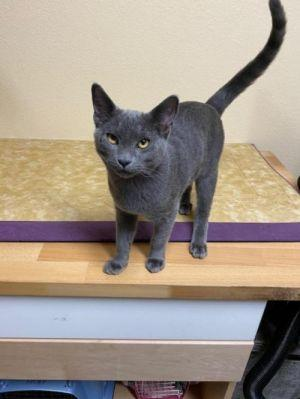rblue: (70, 70, 198, 189)
